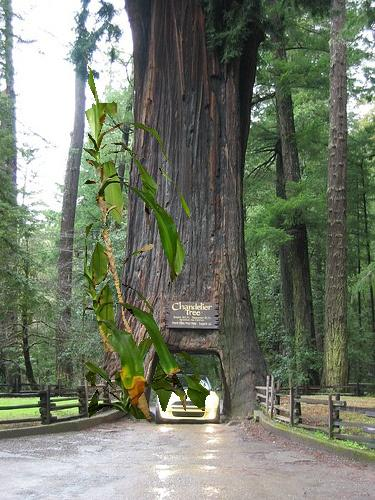tampered: (84, 56, 210, 419)
